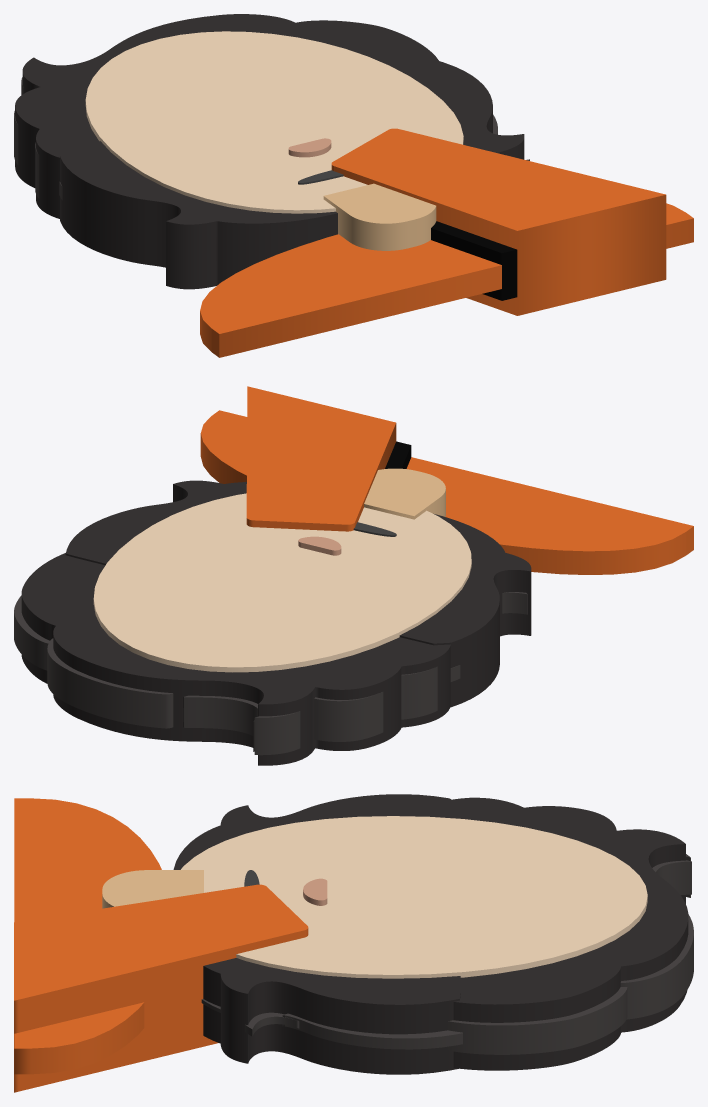
File: emoji_u1f926_1f3fb.glb
3 views of the same model, one above another, from view 1: azimuth 30°, elevation 25°; view 2: azimuth 150°, elevation 25°; view 3: azimuth 270°, elevation 25° (orthographic). The views are drawn at different scales.
Visible parts, largest first — view 1: emoji_u1f926_1f3fb; view 2: emoji_u1f926_1f3fb; view 3: emoji_u1f926_1f3fb.
Part boxes in pixels (x1,y1,x2,y2): emoji_u1f926_1f3fb: (14, 14, 693, 357); emoji_u1f926_1f3fb: (14, 386, 693, 765); emoji_u1f926_1f3fb: (14, 794, 693, 1092).
Bounding box in the file's own units: 0.0292 × 0.005 × 0.0335.
